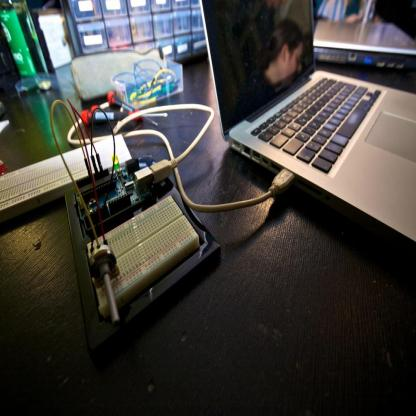board: (199, 0, 416, 243), (313, 20, 416, 68)
